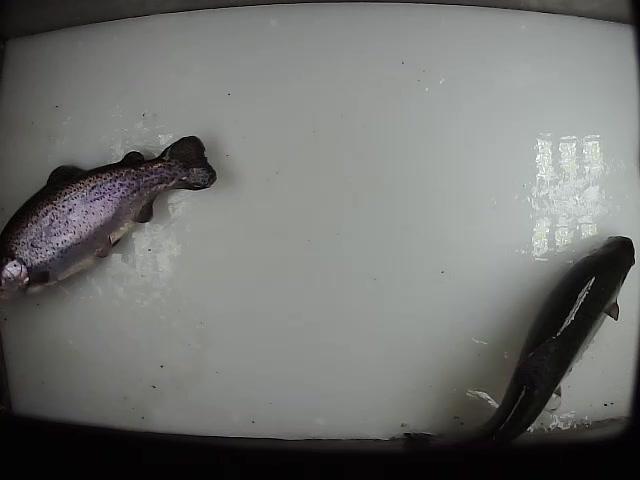fish: (402, 234, 637, 454), (2, 133, 219, 304)
